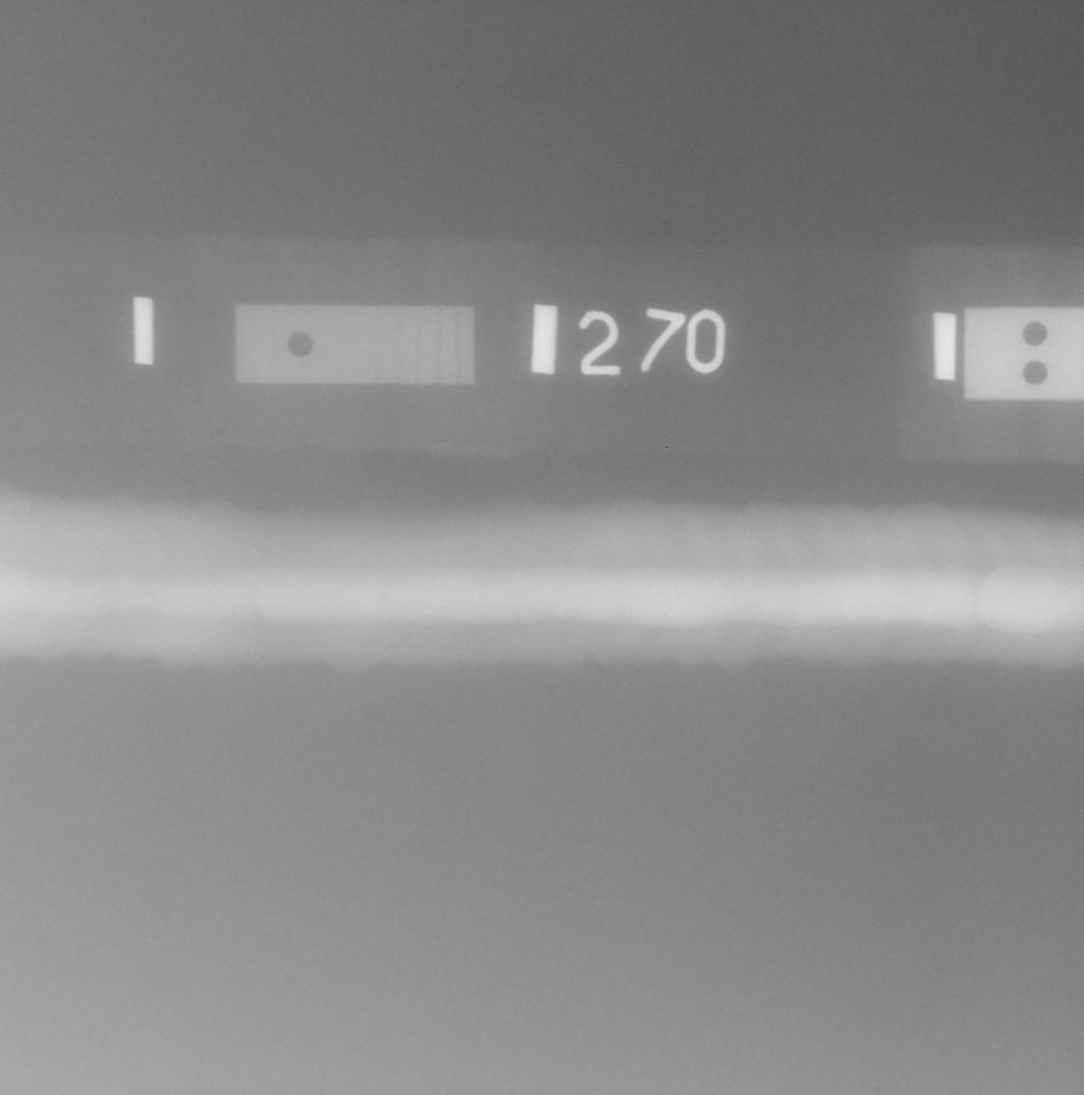Reference Standard 1: (235, 304, 475, 384)
